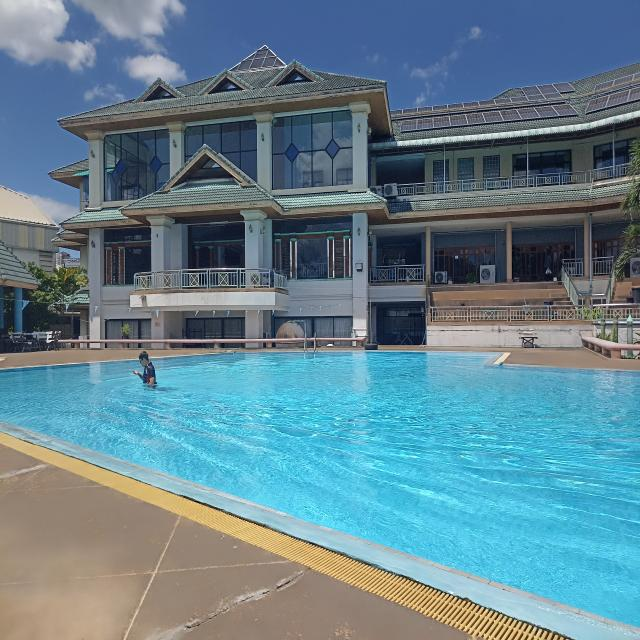Swimming: (114, 340, 172, 405)
